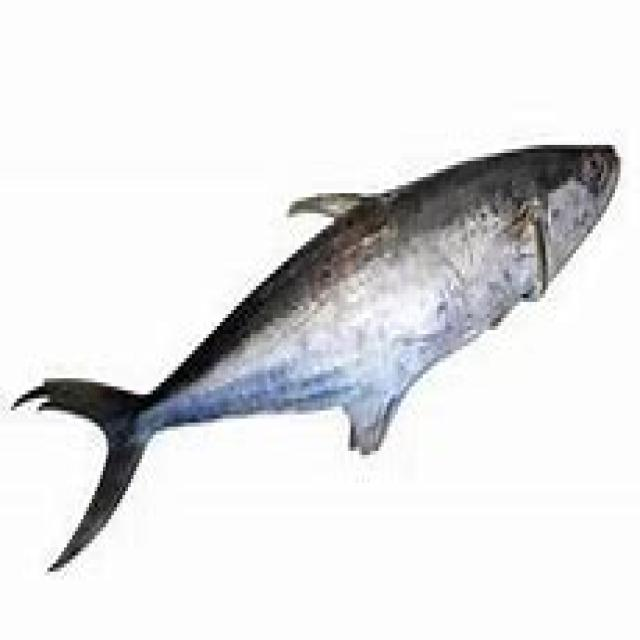seer: (34, 143, 623, 568)
